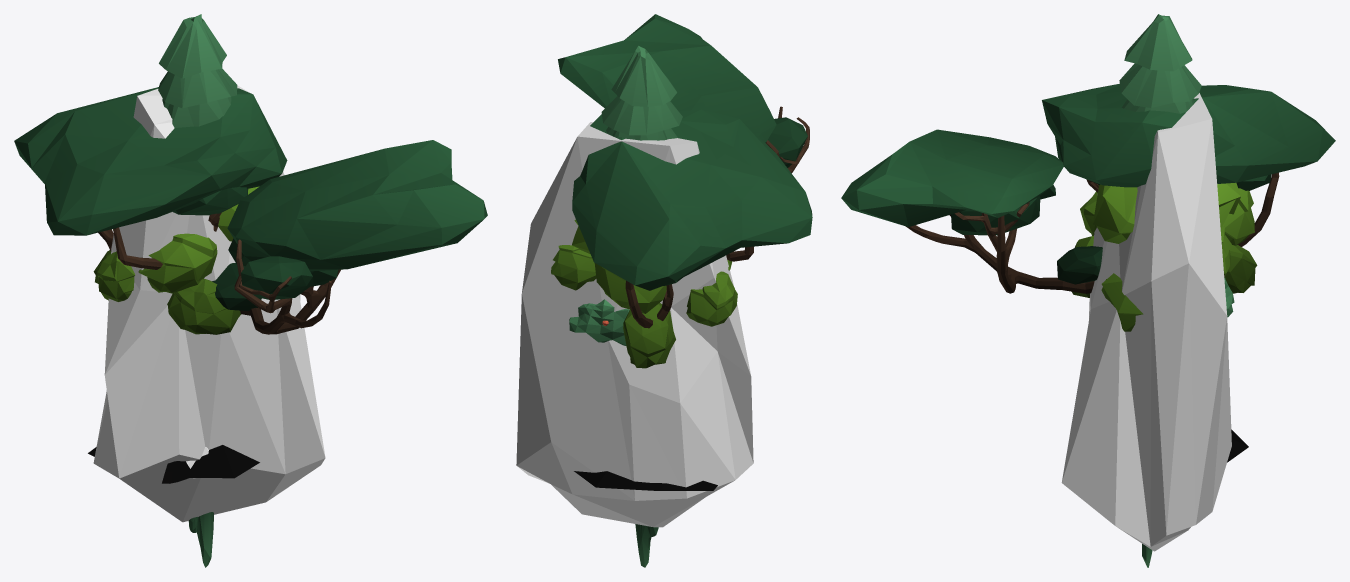
Rendered from plants.glb.
The picture shows the model from 3 angles, left to right: view 1: azimuth 30°, elevation 25°; view 2: azimuth 150°, elevation 25°; view 3: azimuth 270°, elevation 25°; orthographic projection. The views are drawn at different scales.
Parts seen in each view (by area): view 1: curved_tree_lod0, rock_pillar_1, tree_generic_lod0, tree_pine_lod0, liana_lod0; view 2: rock_pillar_1, curved_tree_lod0, tree_generic_lod0, tree_pine_lod0, apple_tree_lod0, liana_lod0; view 3: rock_pillar_1, curved_tree_lod0, tree_generic_lod0, tree_pine_lod0.
Part boxes in pixels (bbox=[...]): curved_tree_lod0: bbox=[14, 87, 487, 483]; rock_pillar_1: bbox=[93, 85, 325, 522]; tree_generic_lod0: bbox=[93, 186, 259, 334]; tree_pine_lod0: bbox=[158, 14, 237, 127]; liana_lod0: bbox=[188, 512, 213, 567]; rock_pillar_1: bbox=[516, 122, 753, 527]; curved_tree_lod0: bbox=[558, 14, 812, 490]; tree_generic_lod0: bbox=[551, 219, 737, 368]; tree_pine_lod0: bbox=[601, 46, 682, 140]; apple_tree_lod0: bbox=[569, 299, 629, 345]; liana_lod0: bbox=[635, 524, 658, 567]; rock_pillar_1: bbox=[1061, 93, 1231, 551]; curved_tree_lod0: bbox=[841, 83, 1335, 462]; tree_generic_lod0: bbox=[1072, 182, 1257, 331]; tree_pine_lod0: bbox=[1119, 14, 1201, 113].
Size of what is drawn, in the model's own units: 29.14 by 46.21 by 37.46.
